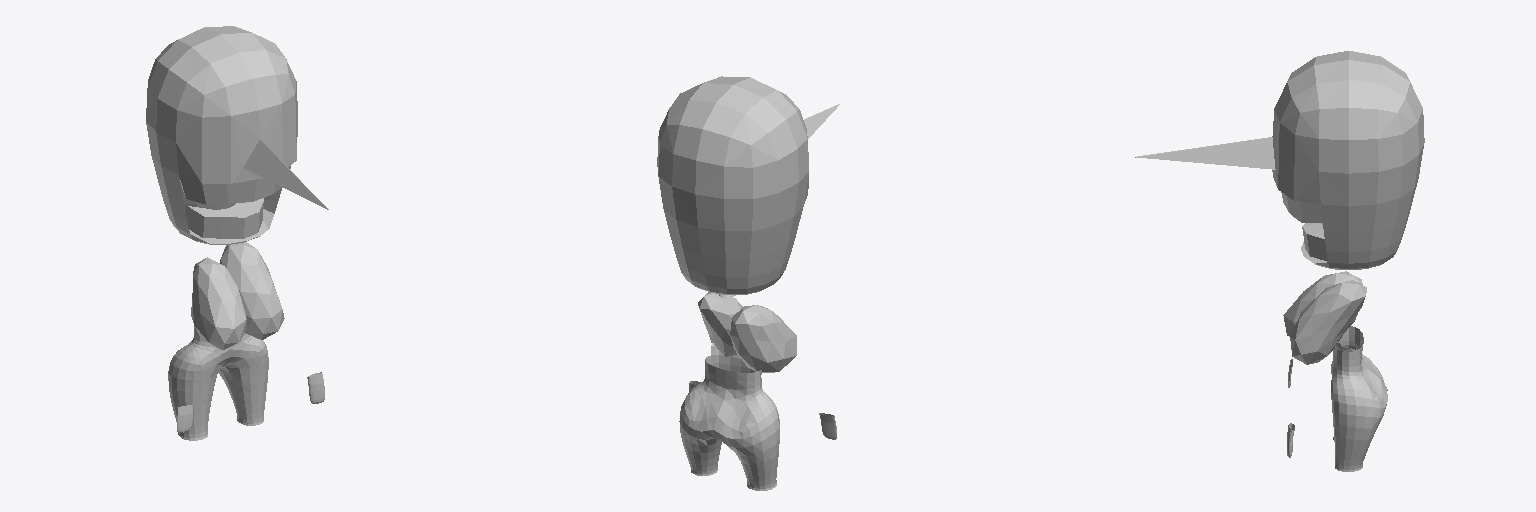
Rendered from BGSpamton(F)(Body).obj.
3 renders of one model, left to right at view 1: azimuth 30°, elevation 25°; view 2: azimuth 150°, elevation 25°; view 3: azimuth 270°, elevation 25°, orthographic.
Visible parts, largest first — view 1: White_Cube.005; view 2: White_Cube.005; view 3: White_Cube.005.
Part boxes in pixels (bbox=[...]): White_Cube.005: bbox=[146, 26, 328, 440]; White_Cube.005: bbox=[657, 76, 839, 490]; White_Cube.005: bbox=[1135, 51, 1424, 471].
Bounding box in the file's own units: 0.7932 × 2 × 1.34.